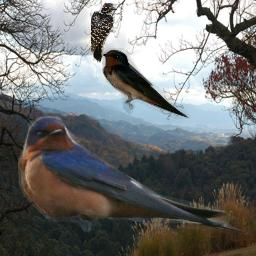Swallow: (18, 116, 250, 235), (100, 48, 190, 119)
Woodpecker: (91, 2, 117, 63)
